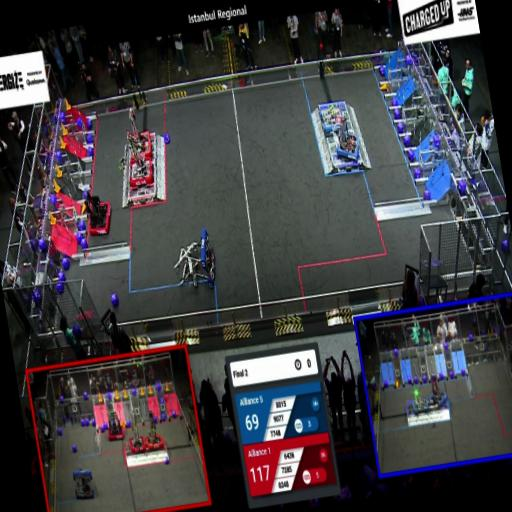robot: (166, 224, 220, 292), (120, 102, 154, 162), (81, 186, 117, 242), (331, 110, 365, 162), (316, 97, 350, 136), (124, 151, 158, 190), (140, 408, 166, 454), (68, 462, 98, 501), (123, 409, 148, 455), (424, 368, 450, 408), (102, 408, 127, 444), (408, 390, 430, 417)
